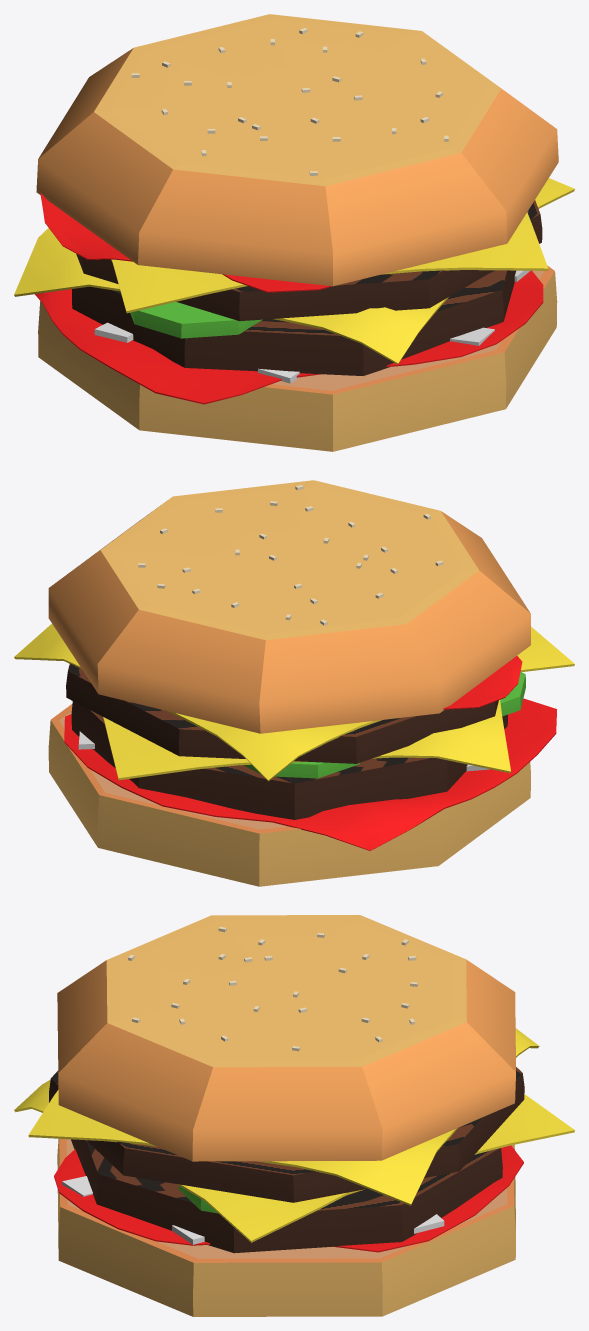
Rendered from Burger.fbx.
The picture shows the model from 3 angles, top to bottom: view 1: azimuth 30°, elevation 25°; view 2: azimuth 150°, elevation 25°; view 3: azimuth 270°, elevation 25°; orthographic projection. The views are drawn at different scales.
Parts seen in each view (by area): view 1: polySurface5, polySurface2, polySurface4, polySurface26, polySurface6, polySurface1, polySurface3, polySurface18, polySurface21; view 2: polySurface5, polySurface2, polySurface4, polySurface26, polySurface6, polySurface1, polySurface3, polySurface18, polySurface7, polySurface21; view 3: polySurface5, polySurface2, polySurface4, polySurface6, polySurface3, polySurface1, polySurface26.
Boxes of the visible parts, <box> form: polySurface5: <box>36,14,558,286</box>; polySurface2: <box>38,265,557,451</box>; polySurface4: <box>72,270,515,375</box>; polySurface26: <box>35,270,543,404</box>; polySurface6: <box>76,200,542,321</box>; polySurface1: <box>14,178,574,364</box>; polySurface3: <box>111,212,548,313</box>; polySurface18: <box>40,193,332,292</box>; polySurface21: <box>130,302,262,338</box>; polySurface5: <box>48,480,530,733</box>; polySurface2: <box>48,704,530,886</box>; polySurface4: <box>71,701,507,819</box>; polySurface26: <box>64,698,556,850</box>; polySurface6: <box>66,663,498,763</box>; polySurface1: <box>103,700,510,780</box>; polySurface3: <box>14,624,574,781</box>; polySurface18: <box>443,656,522,709</box>; polySurface7: <box>243,762,359,778</box>; polySurface21: <box>500,672,525,716</box>; polySurface5: <box>57,915,515,1161</box>; polySurface2: <box>57,1138,515,1316</box>; polySurface4: <box>71,1139,502,1253</box>; polySurface6: <box>49,1067,524,1202</box>; polySurface3: <box>28,1028,539,1205</box>; polySurface1: <box>14,1079,574,1242</box>; polySurface26: <box>54,1145,523,1252</box>.
Size of the model in its own units: 1.4 by 0.6352 by 1.38.
1 material, 1 textured.
